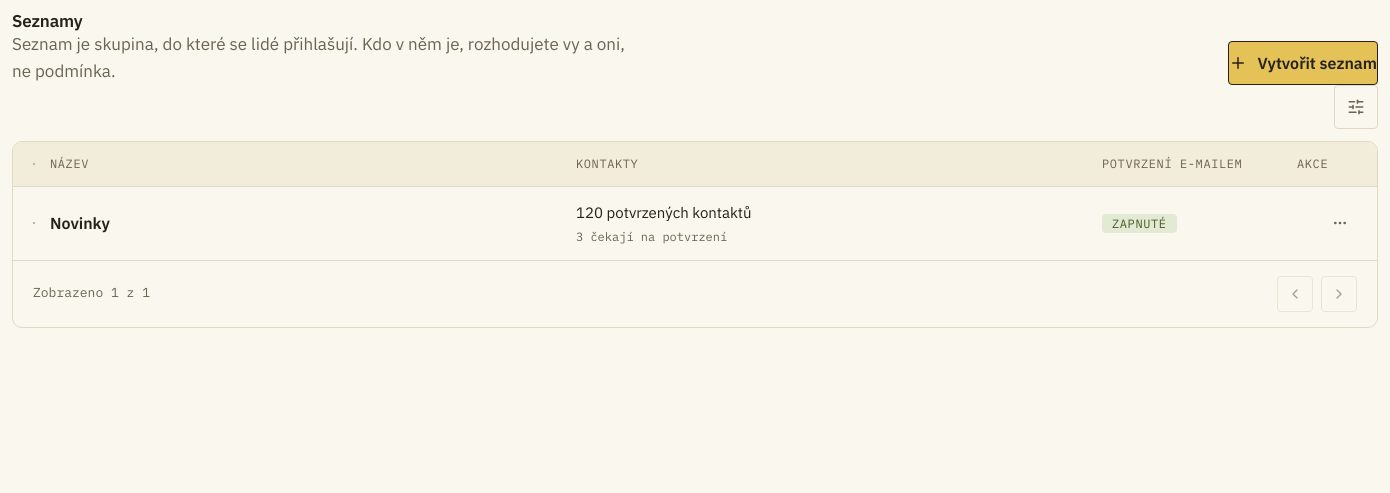
nabídka „…" v řádku seznamu › „Nastavit jako výchozí" akci zavolá a výsledek řekne nahlas
Step 1. Click the button named "Další akce se seznamem" → (1340, 223), box [1323,206,1357,240]
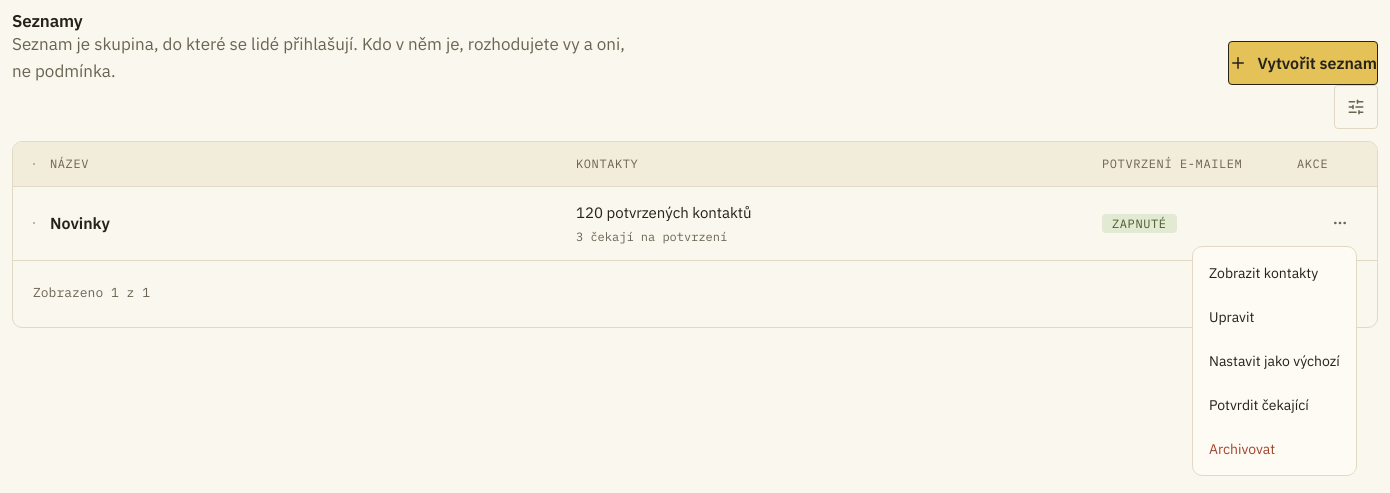
Step 2. Click the menu item "Nastavit jako výchozí" → (1274, 361), box [1209,352,1340,370]
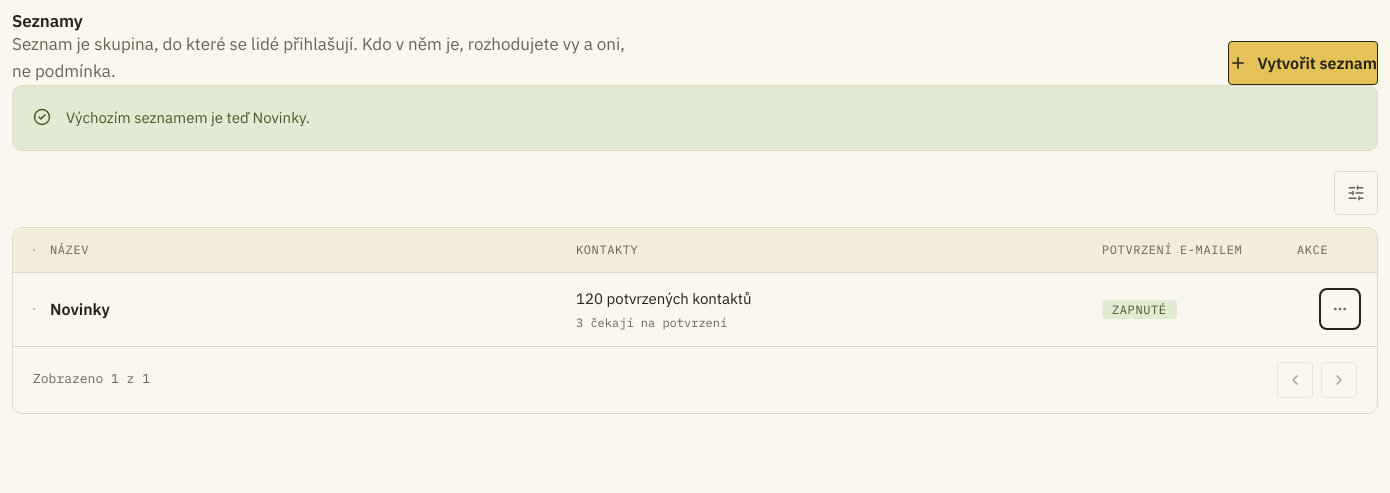
expect the message with test id "lists-notice" reads "Výchozím seznamem je teď Novinky.": met, box [66,108,310,127]
